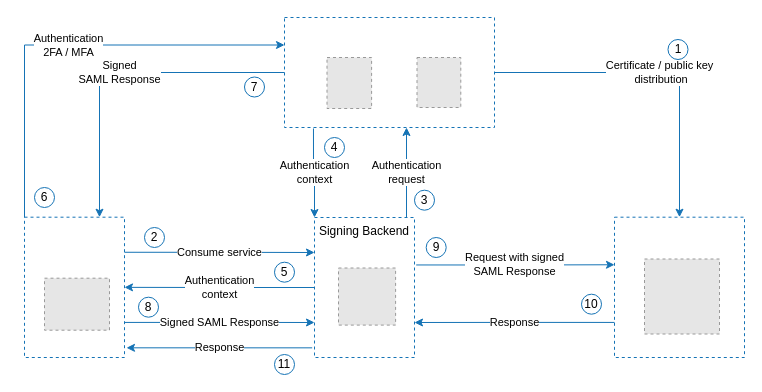
Image size: 762x392. Some labels were removed from this diagram. Grey dashed boxes stand in for pictures. Here are the shapes that lost their labels. From the top down, the box of each, then its label:
(284, 16, 494, 128): Authorization Server
(24, 216, 124, 358): Users and Applications
(614, 216, 744, 358): Resource Server
